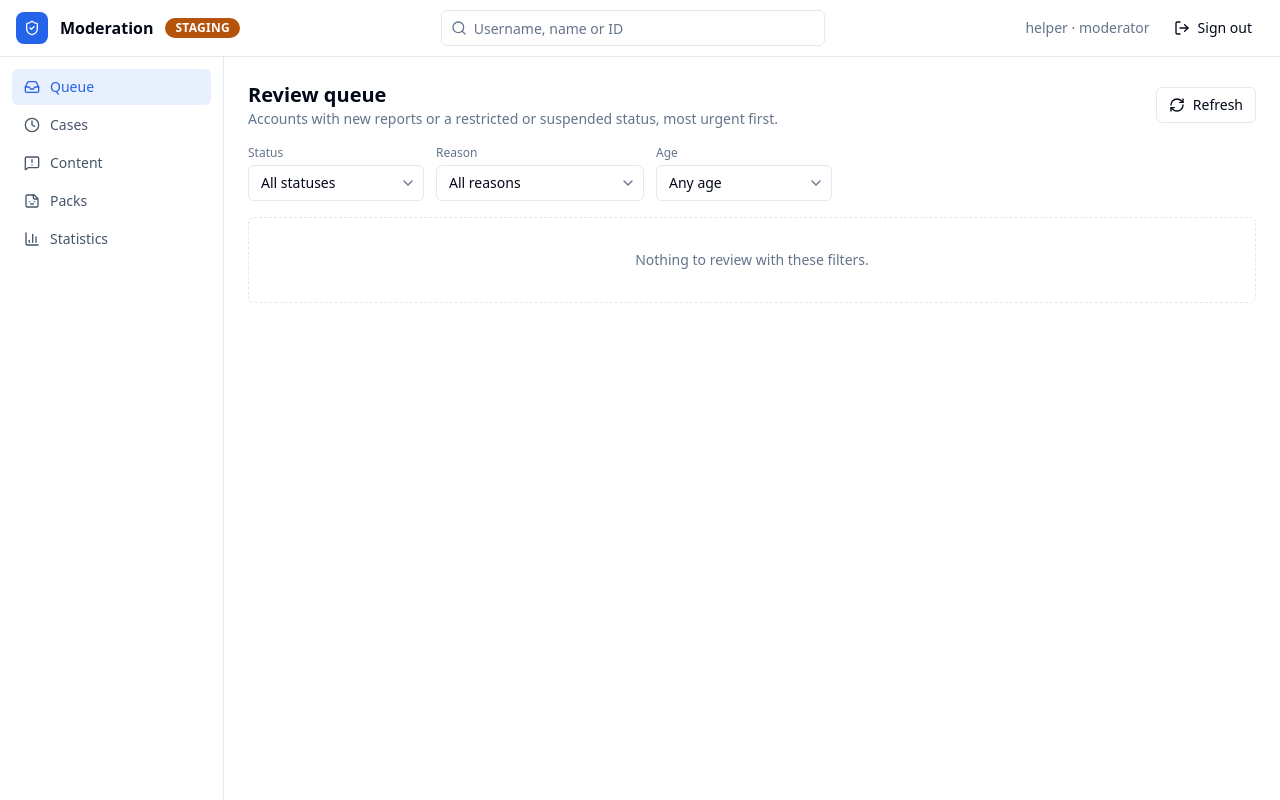
App › opens an account from the search box
The width and height of the screenshot is (1280, 800).
In the search field named "Find an account": (633, 28) top-left (441, 10), bottom-right (825, 46), type "dave"
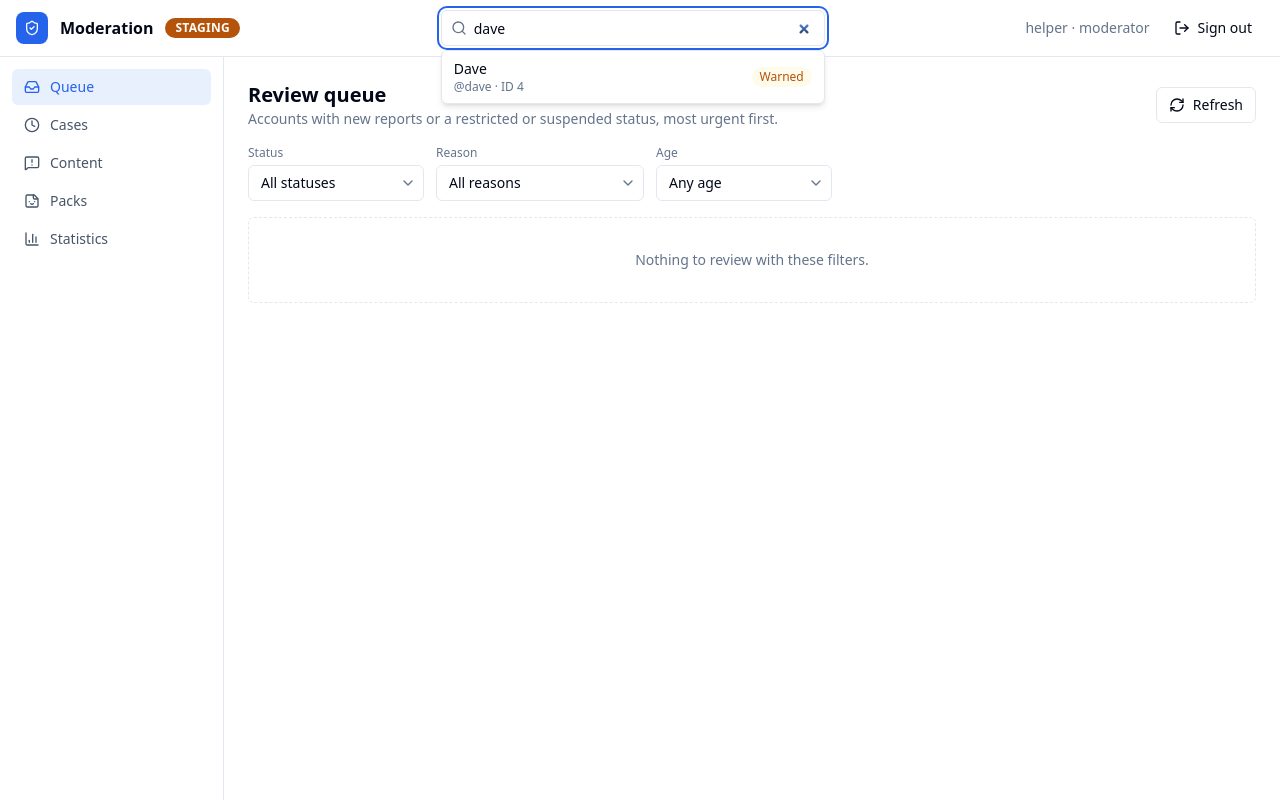
Click the link "Dave @dave · ID 4 Warned": (470, 68) top-left (442, 51), bottom-right (824, 103)
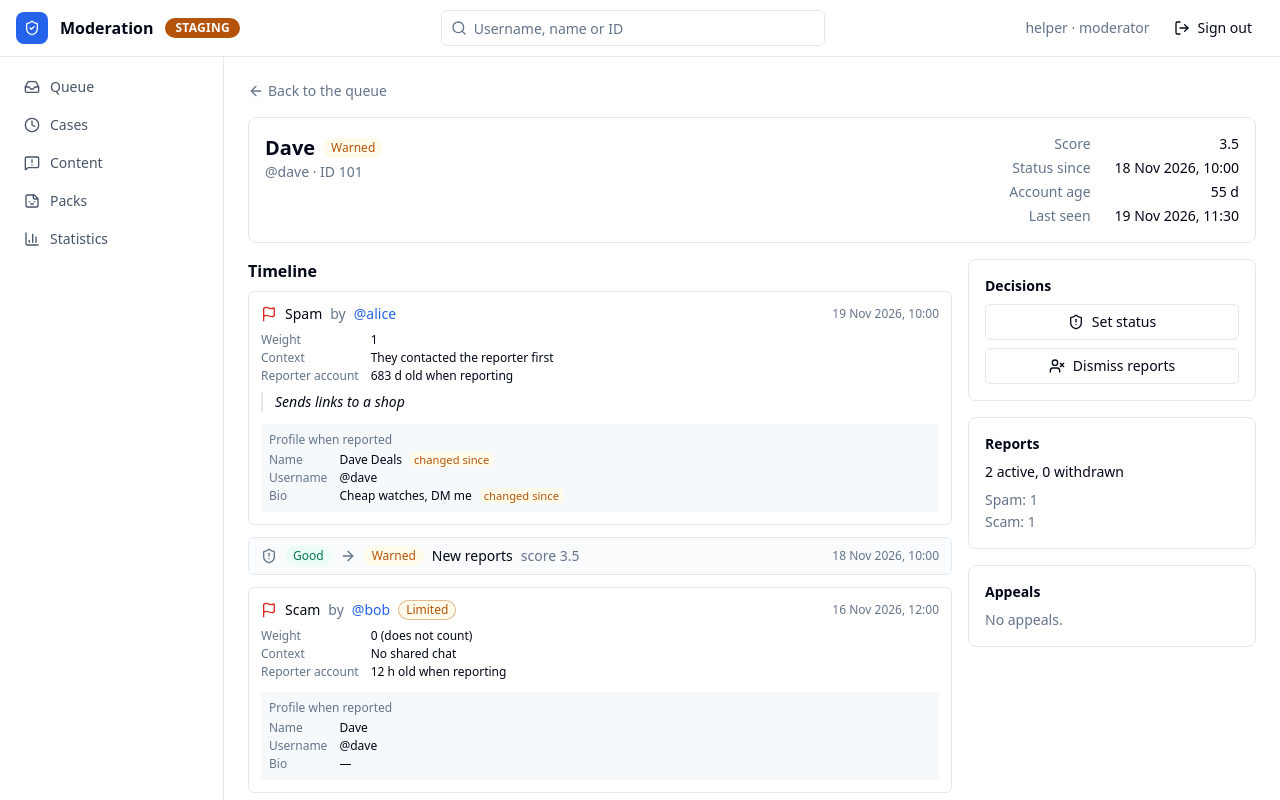
Now the heading "Dave" is shown, box top-left (265, 134), bottom-right (315, 162)
Now the search field named "Find an account" is empty, box top-left (441, 10), bottom-right (825, 46)
